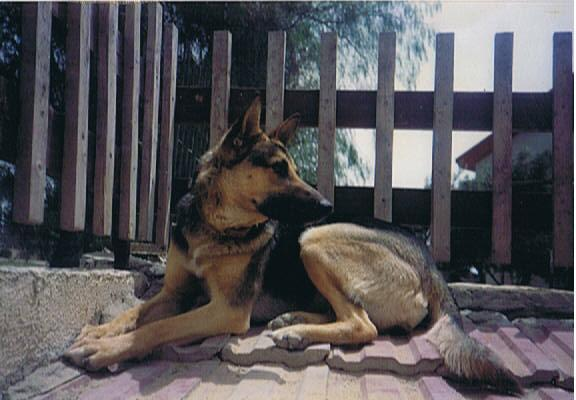German_shepherd: (61, 94, 525, 395)
